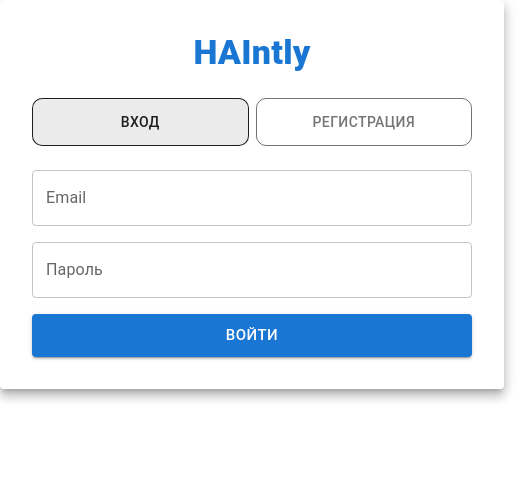
AuthForm interactions › показывает success регистрации, переносит email и не делает login
Click the button "Регистрация" at (364, 122), box x1=256 y1=98 x2=472 y2=146
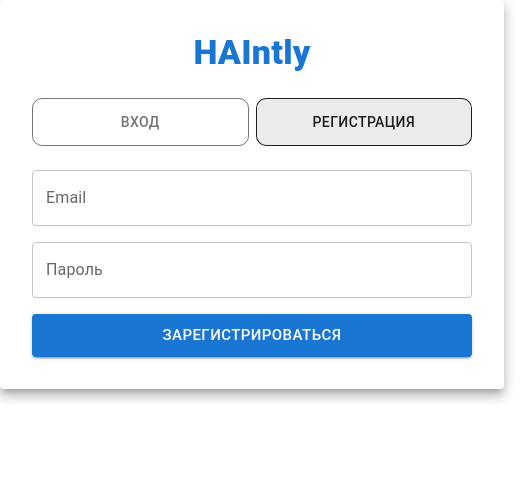
Type "a@b.ru" into the field labelled "Email" at (252, 198), box x1=32 y1=170 x2=472 y2=226
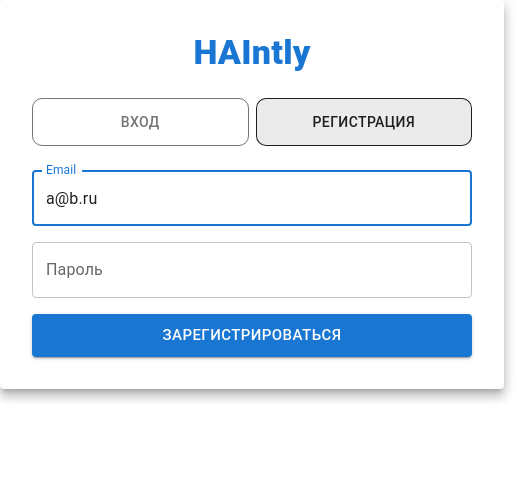
Type "password1" into the password field labelled "Пароль" at (252, 270), box x1=32 y1=242 x2=472 y2=298
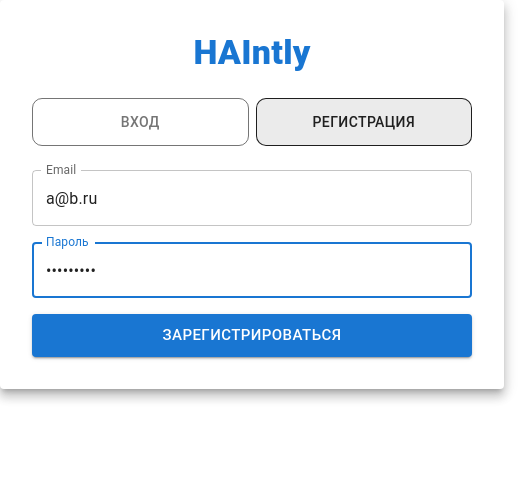
Click the button "Зарегистрироваться" at (252, 336), box x1=32 y1=314 x2=472 y2=357
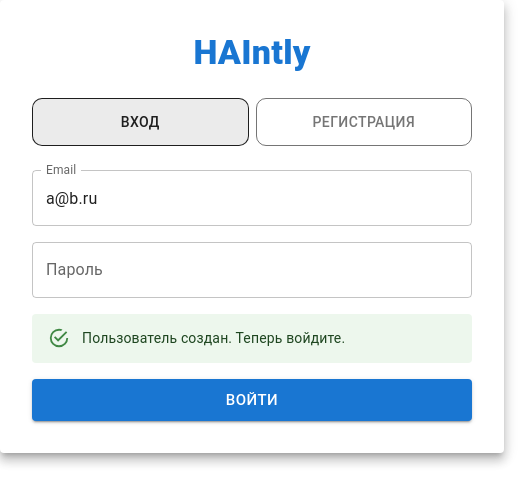
Expected: the message shows "Пользователь создан", x1=82 y1=330 x2=345 y2=346
